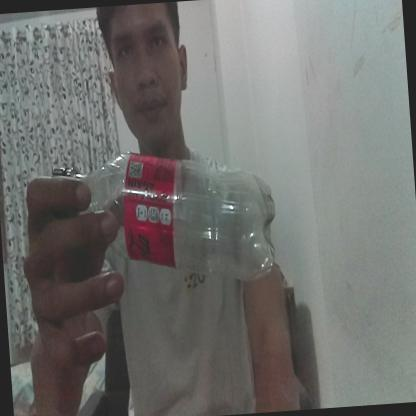plastic_bottles: (48, 144, 280, 294)
